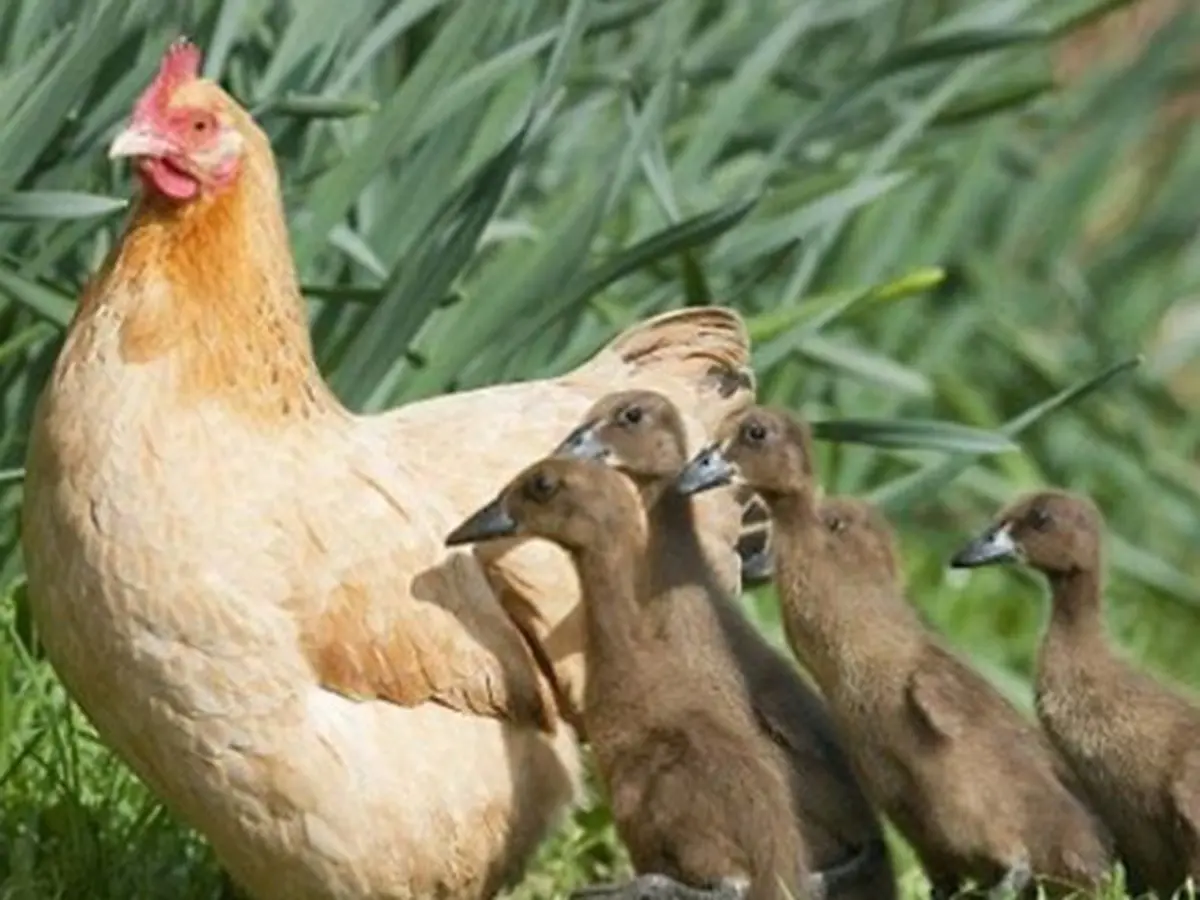ayam: (32, 2, 437, 879)
bebek: (439, 393, 1195, 890)
